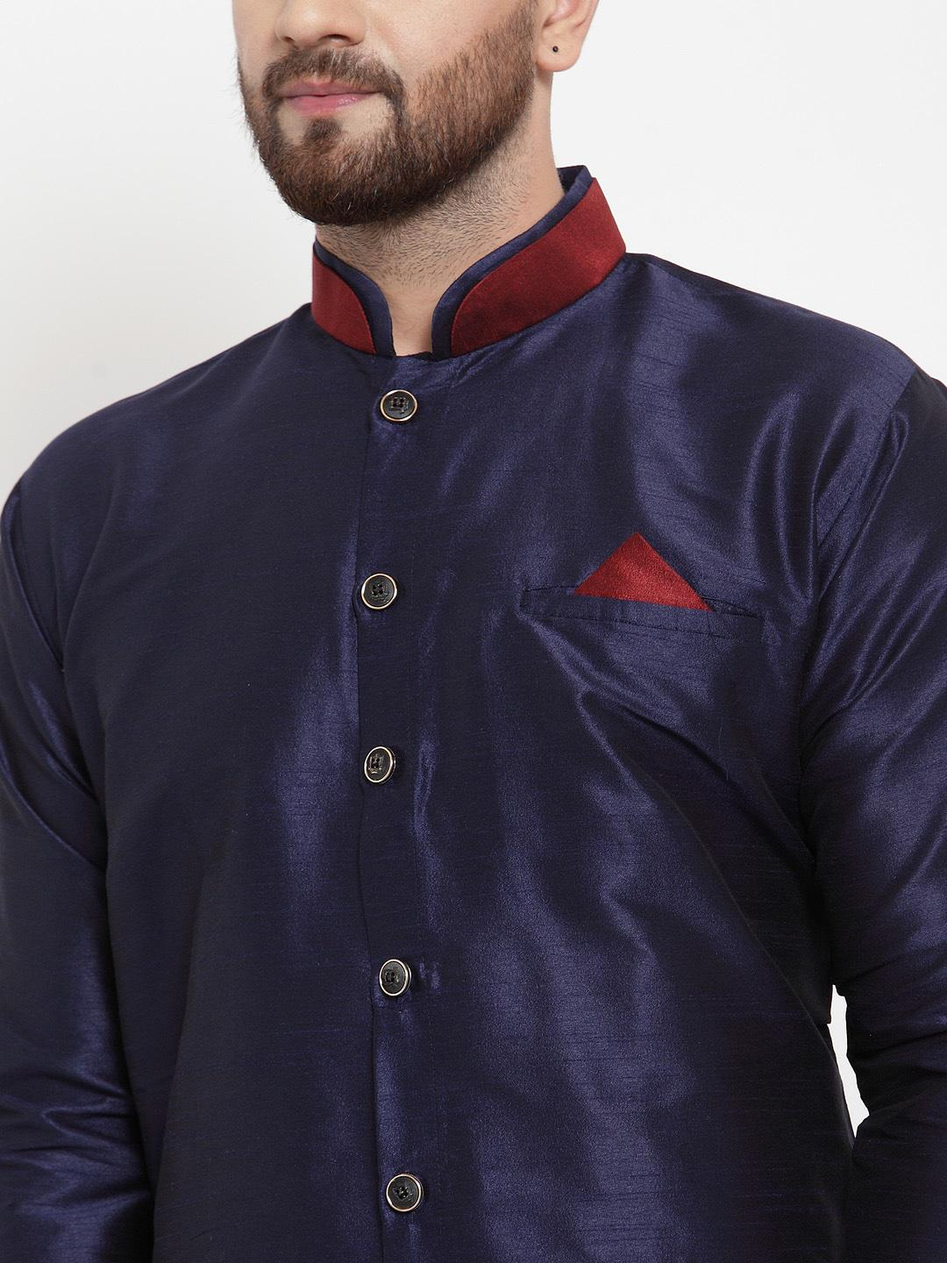Plain sherwani: (4, 167, 946, 1252)
